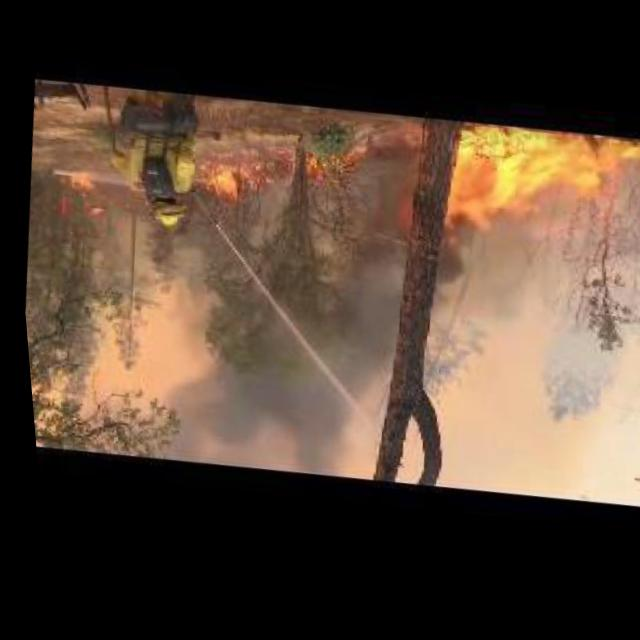Fire: (142, 169, 419, 481), (427, 123, 640, 262), (189, 123, 369, 227), (56, 165, 96, 204), (82, 208, 97, 221)
